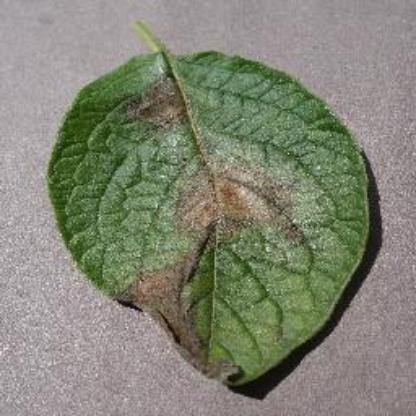Late-Blight: (48, 53, 372, 387)
